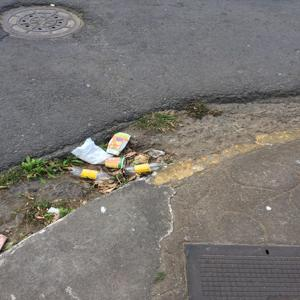metal: (105, 157, 135, 167)
plastic: (71, 137, 111, 170), (106, 129, 136, 153)
plastic bottle: (68, 163, 114, 185), (122, 165, 175, 181)
